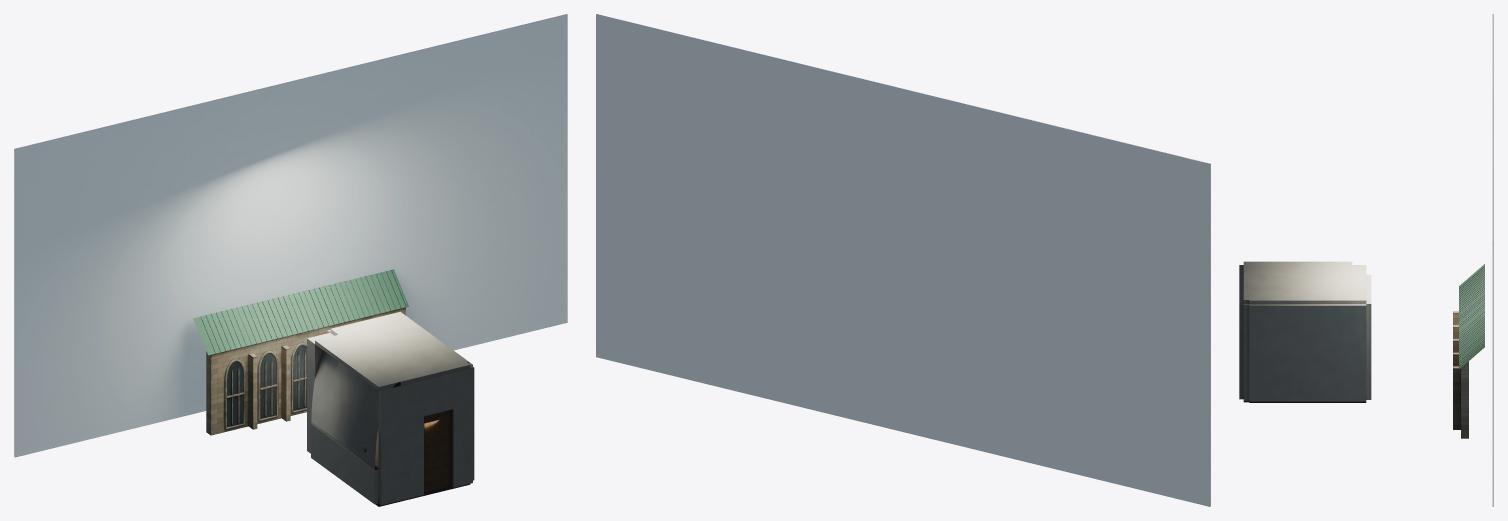
The model's file is room.glb.
3 views of the same model, side by side, from view 1: azimuth 30°, elevation 25°; view 2: azimuth 150°, elevation 25°; view 3: azimuth 270°, elevation 25° (orthographic). The views are drawn at different scales.
Visible parts, largest first — view 1: Room exterior, Room architecture; view 2: Room exterior; view 3: Room architecture, Room exterior.
Boxes of the visible parts, left/top/right/bottom form: Room exterior: left=14, top=14, right=567, bottom=457; Room architecture: left=307, top=311, right=474, bottom=506; Room exterior: left=596, top=14, right=1210, bottom=506; Room architecture: left=1239, top=261, right=1371, bottom=402; Room exterior: left=1453, top=14, right=1493, bottom=506.
Size of the model in its own units: 15 by 8.2 by 7.01.
8 materials, 6 textured.
